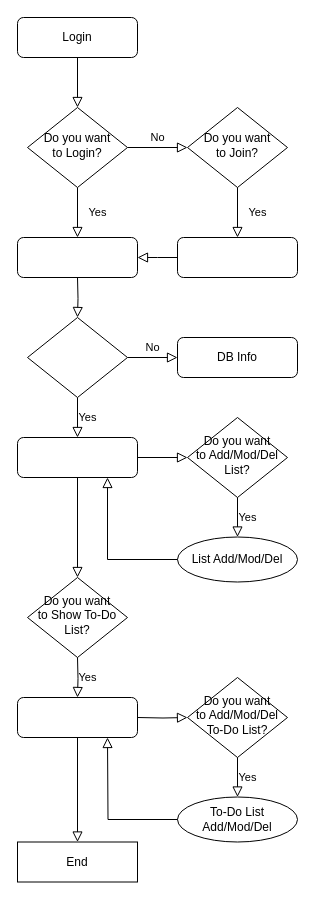
The diagram is 315 pixels wide and 900 high, and some of its shapes have lost their labels. The box of each missing label's shape, as (x1, y1, x2, y2) in pixels:
Did you enter DB info?: (26, 316, 128, 398)
Home: (16, 236, 138, 278)
List: (16, 436, 138, 478)
Registry: (176, 236, 298, 278)
To-Do List: (16, 696, 138, 738)
